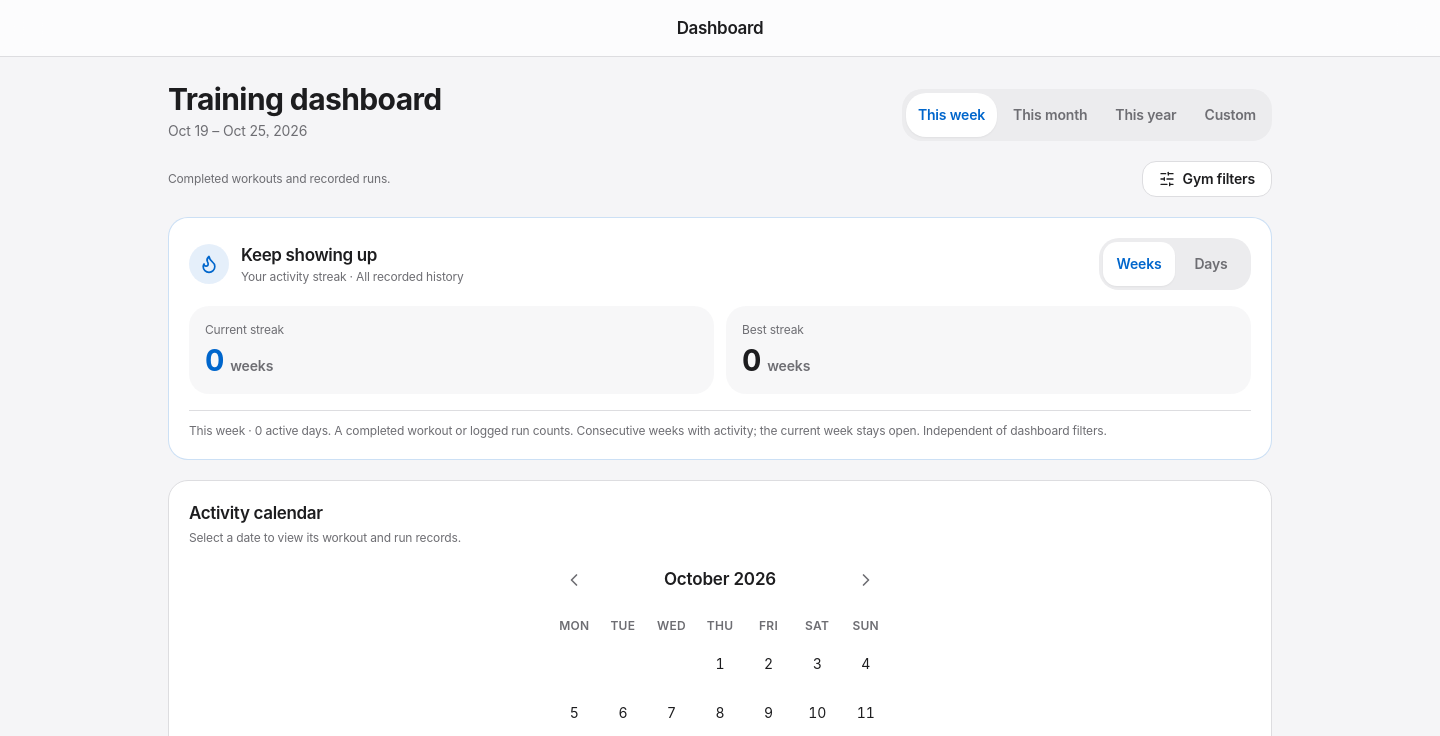
Test case: uses clear empty states and validates custom dates before rendering charts
Click the button "Custom" at {"x": 1230, "y": 115}, box x1=1192 y1=93 x2=1268 y2=137
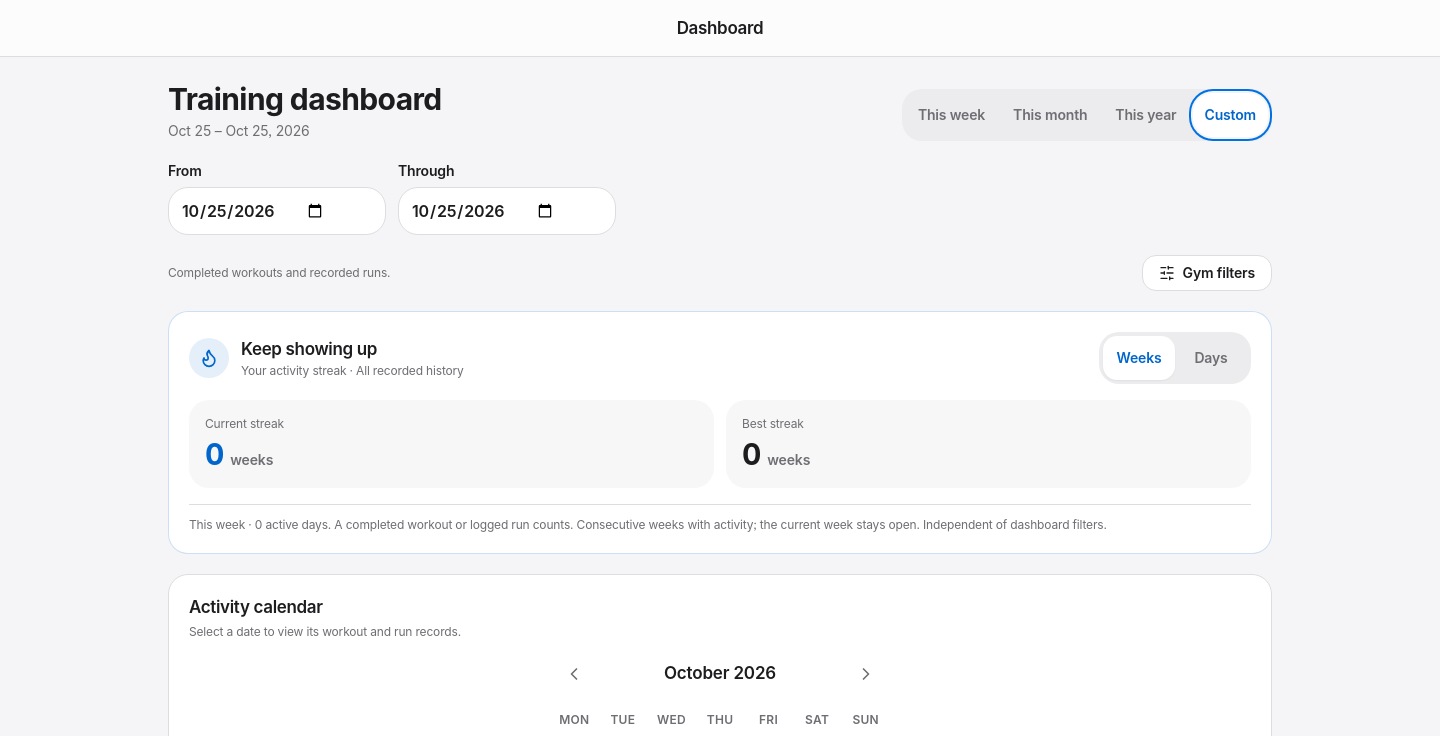
Clear the date field labelled "From" at {"x": 277, "y": 211}, box x1=168 y1=187 x2=386 y2=235
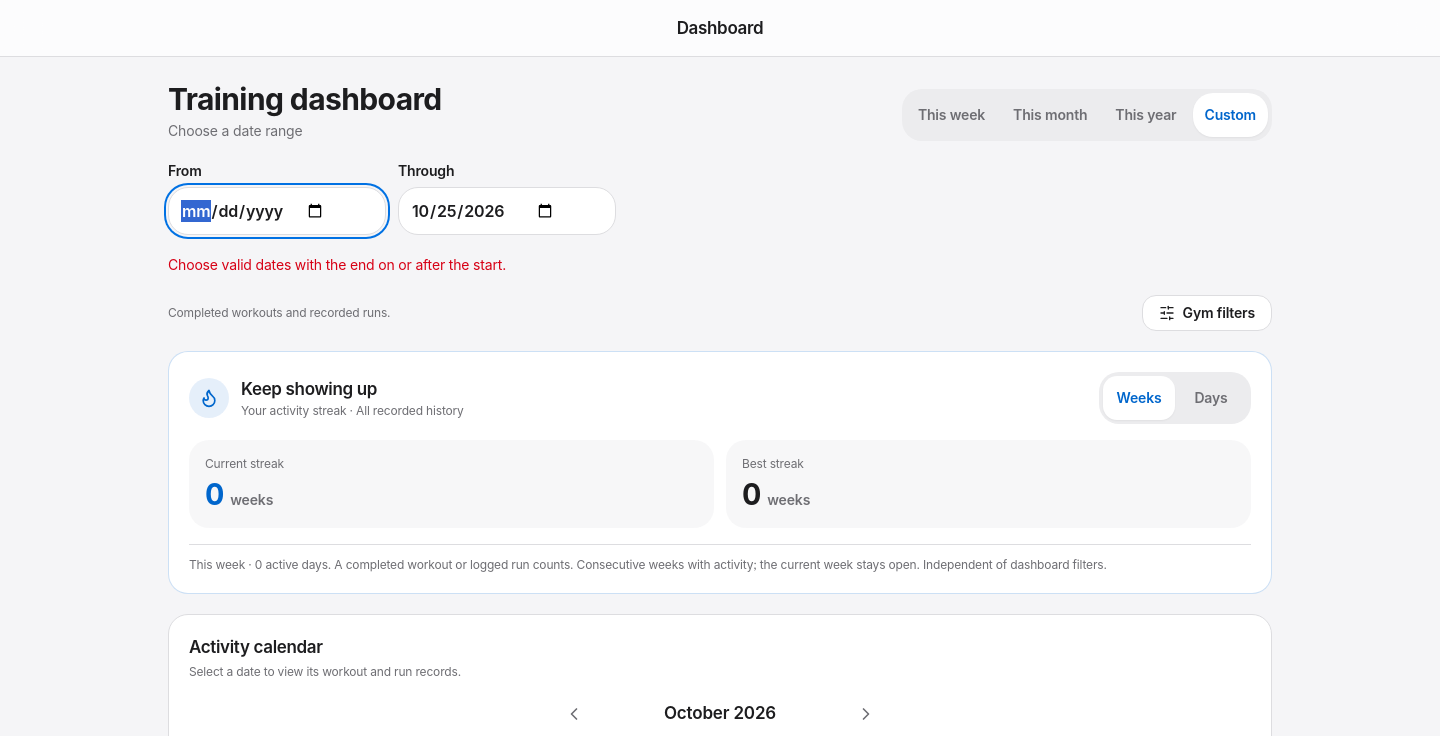
Check: the message shows "Choose valid dates", box x1=168 y1=256 x2=506 y2=273
